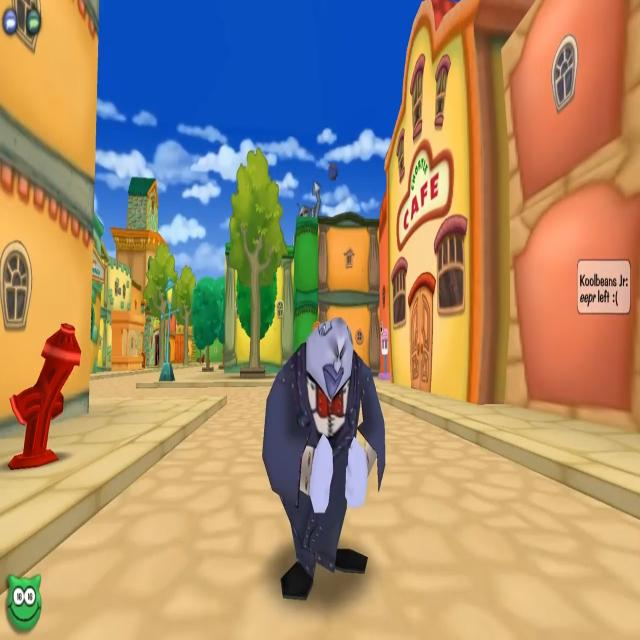bottomfeeder: (259, 302, 388, 602)
